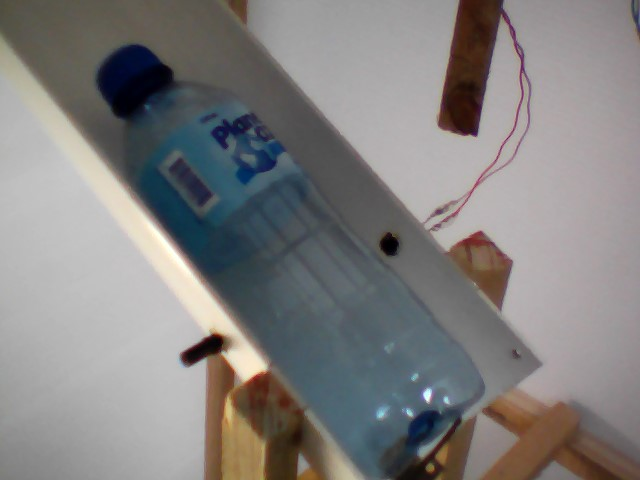plastico: (88, 31, 491, 480)
